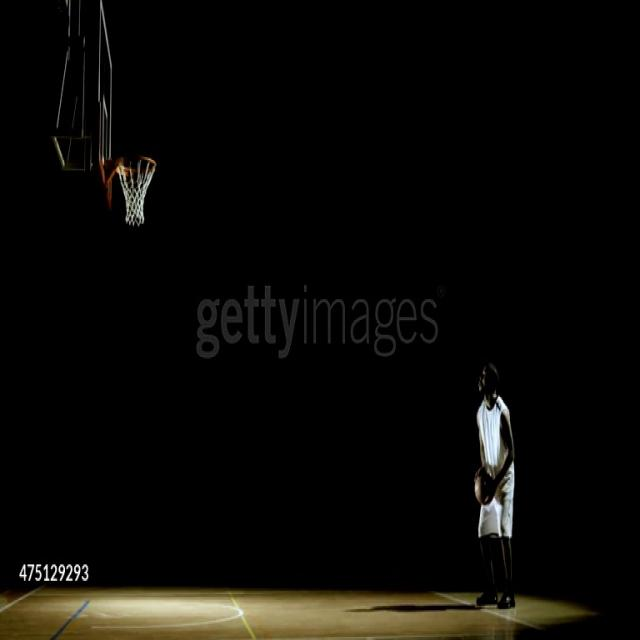ball: (474, 465, 494, 507)
